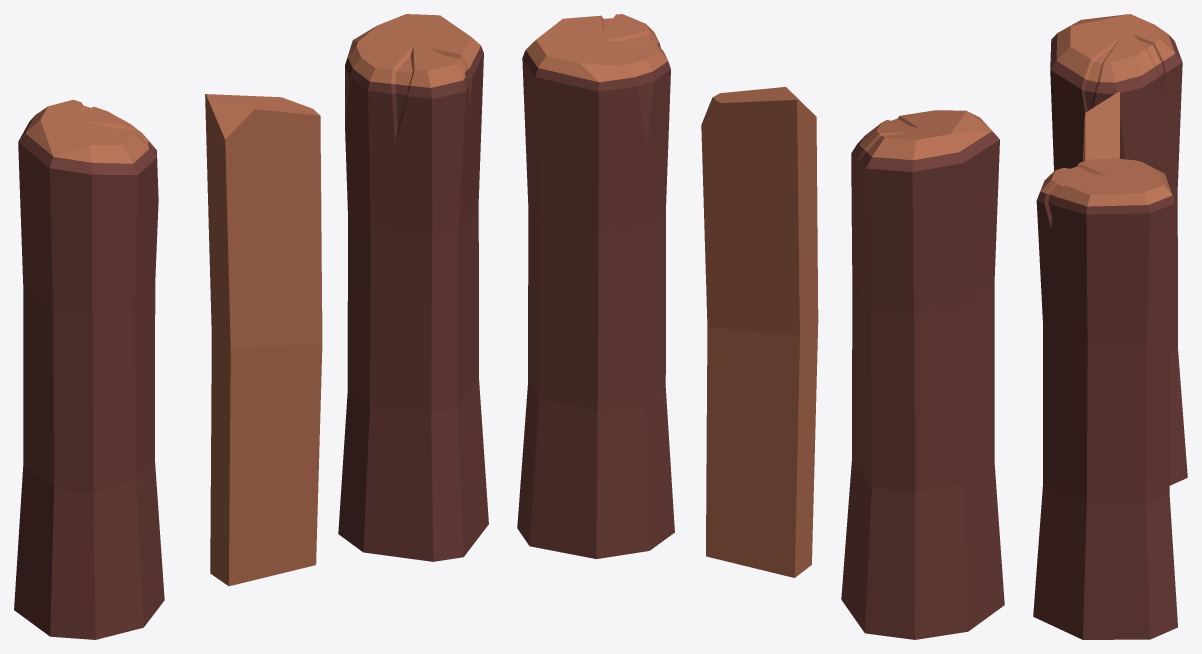
The model's file is Fence Wooden Blunt 16.fbx.
The picture shows the model from 3 angles, left to right: view 1: azimuth 30°, elevation 25°; view 2: azimuth 150°, elevation 25°; view 3: azimuth 270°, elevation 25°; orthographic projection. The views are drawn at different scales.
Parts seen in each view (by area): view 1: Wooden Pole Blunt 16; view 2: Wooden Pole Blunt 16; view 3: Wooden Pole Blunt 16.
Boxes of the visible parts, x1,y1,x2,y2 form: Wooden Pole Blunt 16: [14, 14, 488, 639]; Wooden Pole Blunt 16: [517, 14, 1004, 639]; Wooden Pole Blunt 16: [1033, 14, 1187, 639].
Size of the model in its own units: 98.99 by 104 by 33.09.
